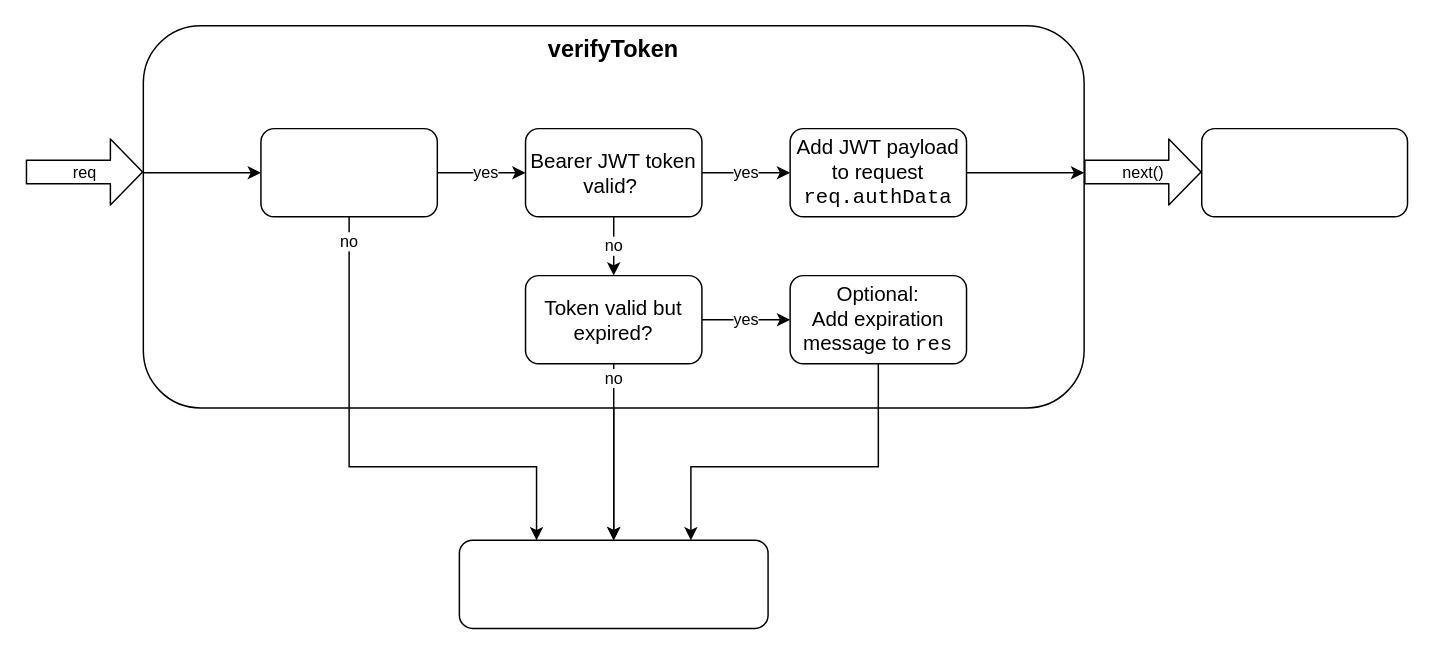
Image size: 1433x654. Some labels were removed from this diagram. Here are the shapes that lost their labels. From the top down, the centre of each, then its label:
point (348, 172): Authorization header present?
point (1304, 172): Process next middleware function
point (613, 583): Reject request with HTTP 401 Unauthorized
